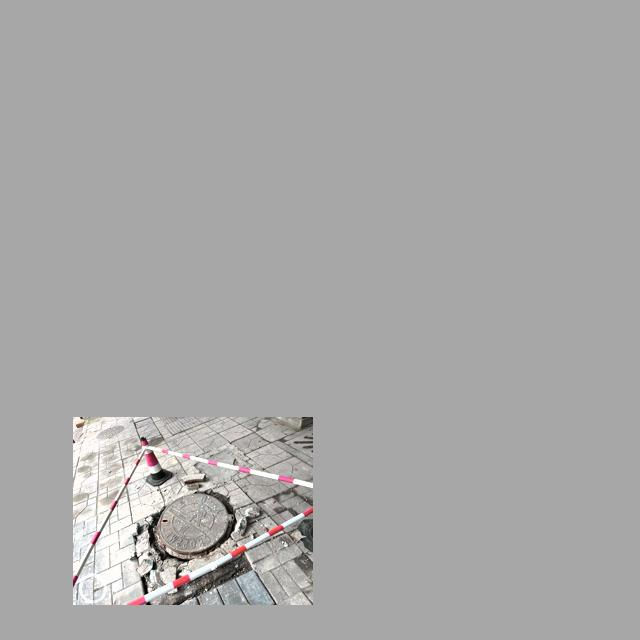circle: (137, 481, 254, 598)
